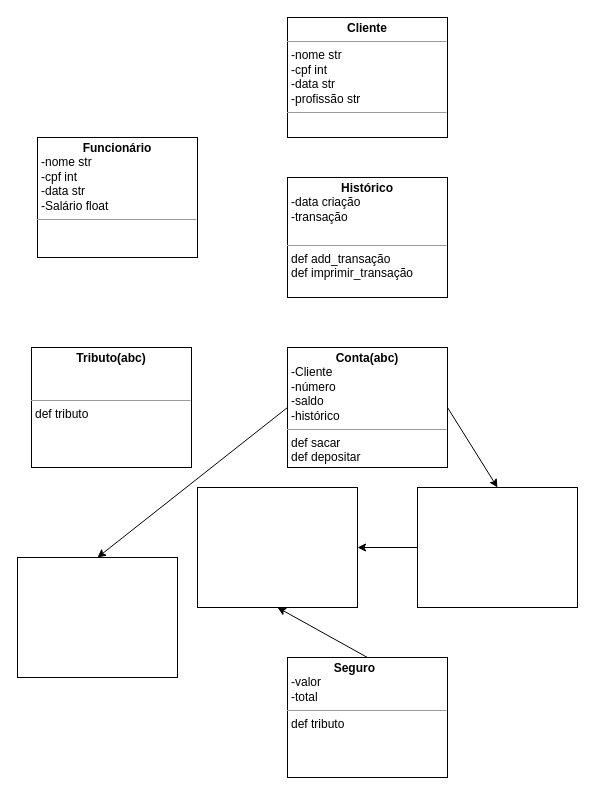
This 595x795 diagram has some shape labels left out. Here are the shapes that lost their labels. From the top down, the centre of each, then its label:
the point at 277,547: Verificar def calcular
the point at 497,547: Conta Corrente def tributo
the point at 97,617: Conta Poupança
